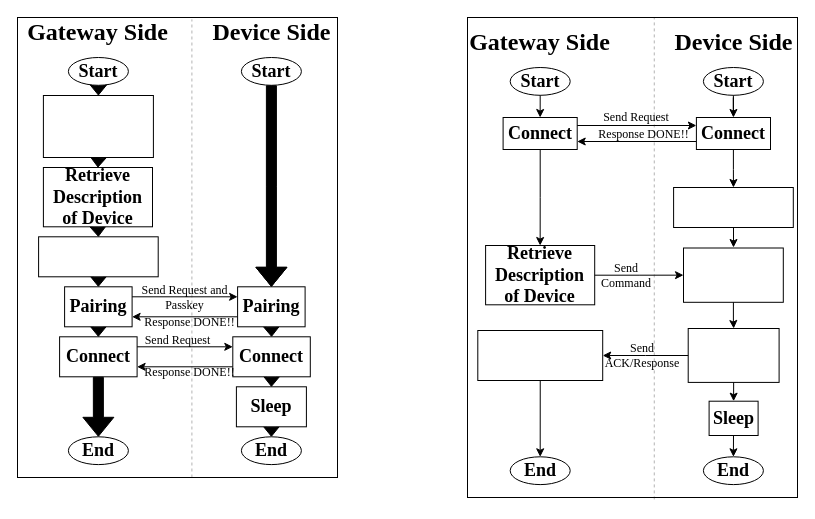
Image size: 815x519. Some labels were removed from this diagram. Here are the shapes that lost their labels. From the top down, the centre of each, then its label:
the point at 97,126: Dowload Description of Device
the point at 733,207: Sleep and Wait Command
the point at 98,256: Scan Bluetooth Device
the point at 732,274: Receive Command
the point at 540,355: Wait ACK/ Response
the point at 733,355: Execute Command
